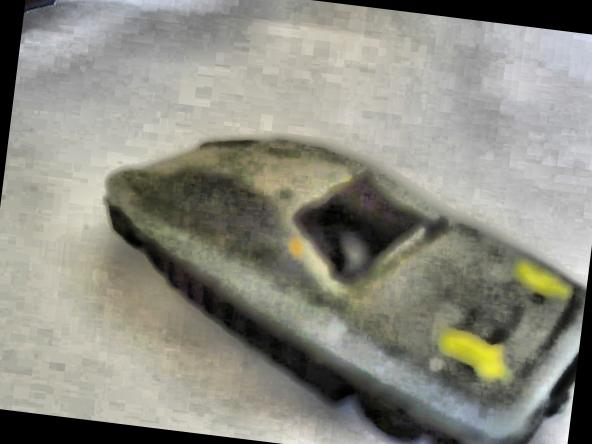normal_car: (48, 93, 592, 444)
